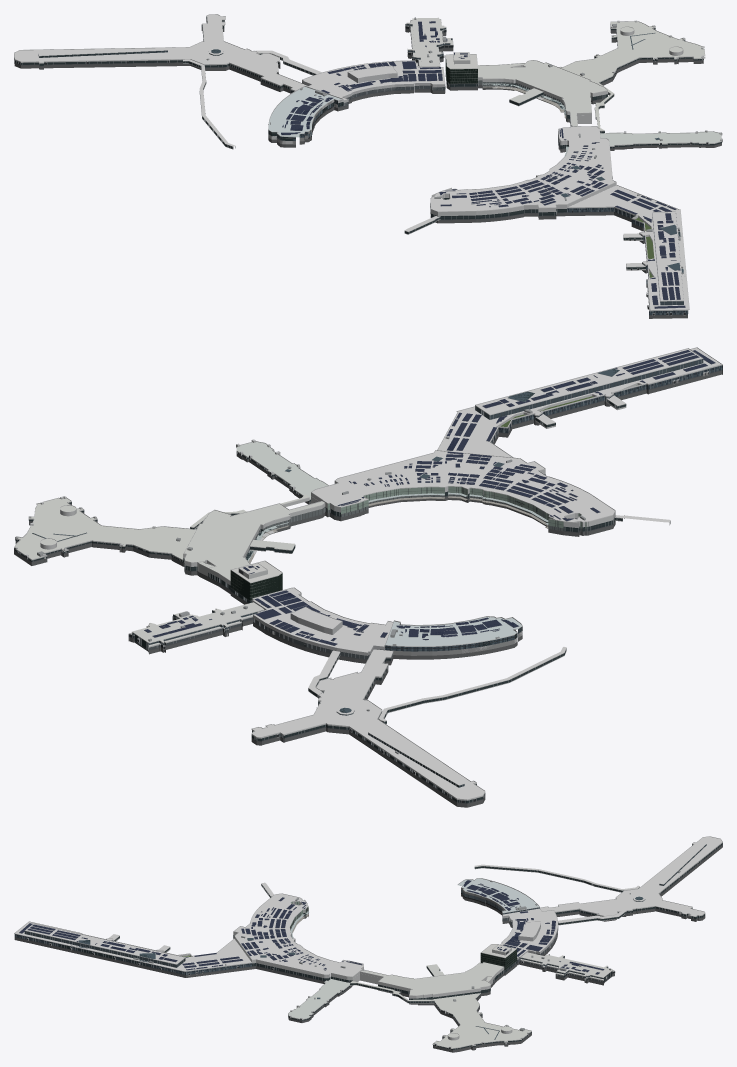
The model's file is domestic.glb.
3 renders of one model, top to bottom at view 1: azimuth 30°, elevation 25°; view 2: azimuth 150°, elevation 25°; view 3: azimuth 270°, elevation 25°, orthographic. The views are drawn at different scales.
Visible parts, largest first — view 1: L2_domestic, L0_T1_shell, L0_BA_F_shell, L0_BA_B_shell, L0_T2_shell, L0_BA_D_shell, L0_T3E_shell, L0_T1_pv, L0_T3W_shell, L0_BA_C_shell, L0_BA_E_shell, L0_BA_B_pv (+3 smaller); view 2: L2_domestic, L0_T1_shell, L0_BA_F_shell, L0_BA_B_shell, L0_BA_D_shell, L0_T3E_shell, L0_T3W_shell, L0_T2_shell, L0_T1_pv, L0_BA_E_shell, L0_BA_B_pv, L0_BA_C_shell (+4 smaller); view 3: L0_BA_F_shell, L0_T1_shell, L0_BA_B_shell, L2_domestic, L0_BA_D_shell, L0_T2_shell, L0_T3E_shell, L0_T3W_shell, L0_BA_E_shell, L0_T1_pv, L0_BA_C_shell, L0_BA_B_pv (+3 smaller).
Boxes of the visible parts, box(x1,y1,x2,y2) form: L2_domestic: box(14, 14, 704, 264); L0_T1_shell: box(404, 126, 616, 234); L0_BA_F_shell: box(14, 14, 321, 148); L0_BA_B_shell: box(567, 185, 689, 318); L0_T2_shell: box(478, 60, 607, 126); L0_BA_D_shell: box(559, 20, 705, 133); L0_T3E_shell: box(302, 60, 445, 108); L0_T1_pv: box(439, 128, 607, 207); L0_T3W_shell: box(268, 86, 343, 147); L0_BA_C_shell: box(600, 130, 722, 150); L0_BA_E_shell: box(405, 17, 453, 66); L0_BA_B_pv: box(610, 189, 685, 308); L2_domestic: box(14, 363, 683, 807); L0_T1_shell: box(311, 450, 670, 536); L0_BA_F_shell: box(251, 647, 566, 807); L0_BA_B_shell: box(437, 347, 722, 457); L0_BA_D_shell: box(14, 494, 309, 566); L0_T3E_shell: box(252, 587, 392, 663); L0_T3W_shell: box(385, 616, 522, 659); L0_T2_shell: box(183, 501, 325, 593); L0_T1_pv: box(337, 451, 600, 521); L0_BA_E_shell: box(128, 602, 264, 654); L0_BA_B_pv: box(446, 350, 715, 450); L0_BA_C_shell: box(236, 439, 328, 504); L0_BA_F_shell: box(474, 836, 722, 925); L0_T1_shell: box(233, 882, 363, 986); L0_BA_B_shell: box(14, 921, 251, 977); L2_domestic: box(35, 836, 722, 1047); L0_BA_D_shell: box(350, 981, 531, 1052); L0_T2_shell: box(360, 962, 504, 1004); L0_T3E_shell: box(500, 908, 557, 965); L0_T3W_shell: box(457, 878, 539, 921); L0_BA_E_shell: box(520, 952, 614, 985); L0_T1_pv: box(241, 897, 362, 970); L0_BA_C_shell: box(288, 979, 351, 1022); L0_BA_B_pv: box(19, 923, 243, 970).
Size of the model in its own units: 844 by 38.35 by 1196.
76 materials, 13 textured.
